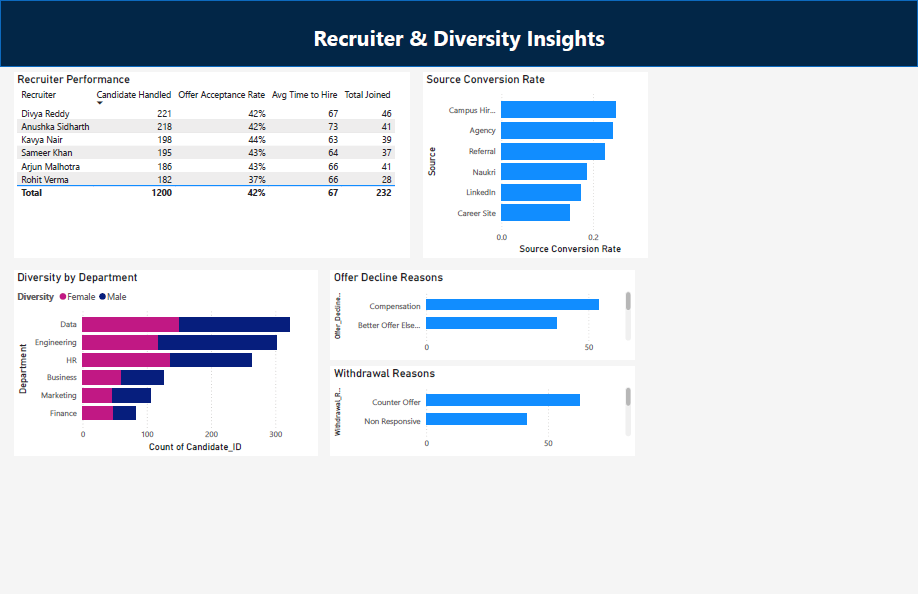

This screenshot's page, from the dashboard's own definition file:
{"tool":"powerbi","page":{"name":"Recruiter & Diversity Insights","canvas":[1390,900],"ordinal":1},"visuals":[{"type":"shape","box":[0,1,1390.2,100],"z":0},{"type":"textbox","box":[12.8,29.3,1362.8,87.8],"z":1000},{"type":"tableEx","title":"Recruiter Performance","fields":{"Values":["RecruitmentData.Recruiter","RecruitmentData.Candidate_ID","RecruitmentData.Offer Acceptance Rate","RecruitmentData.Avg Time to Hire","RecruitmentData.Total Joined"]},"box":[20,110,600,280],"z":2000},{"type":"clusteredBarChart","title":"Source Conversion Rate","fields":{"Category":["RecruitmentData.Source"],"Y":["RecruitmentData.Source Conversion Rate"]},"box":[640,110,340,280],"z":2001},{"type":"barChart","title":"Diversity by Department","fields":{"Category":["RecruitmentData.Department"],"Y":["Count(RecruitmentData.Candidate_ID)"],"Series":["RecruitmentData.Diversity"]},"box":[20,410,460,280],"z":2002},{"type":"clusteredBarChart","title":"Offer Decline Reasons","fields":{"Category":["RecruitmentData.Offer_Decline_Reason"],"Y":["Count(RecruitmentData.Candidate_ID)"]},"box":[500,410,460,135],"z":2003},{"type":"clusteredBarChart","title":"Withdrawal Reasons","fields":{"Category":["RecruitmentData.Withdrawal_Reason"],"Y":["Count(RecruitmentData.Candidate_ID)"]},"box":[500,555,460,135],"z":2004}]}

Visuals, with their boxes in screenshot pixels (x1, y1, x2, y2), scaled from the page's 1390x900 canvas onto the 918x598 screenshot:
shape: <region>0, 1, 917, 67</region>
textbox: <region>8, 19, 908, 78</region>
"Recruiter Performance" tableEx: <region>13, 73, 409, 259</region>
"Source Conversion Rate" clusteredBarChart: <region>423, 73, 647, 259</region>
"Diversity by Department" barChart: <region>13, 272, 317, 458</region>
"Offer Decline Reasons" clusteredBarChart: <region>330, 272, 634, 362</region>
"Withdrawal Reasons" clusteredBarChart: <region>330, 369, 634, 458</region>
